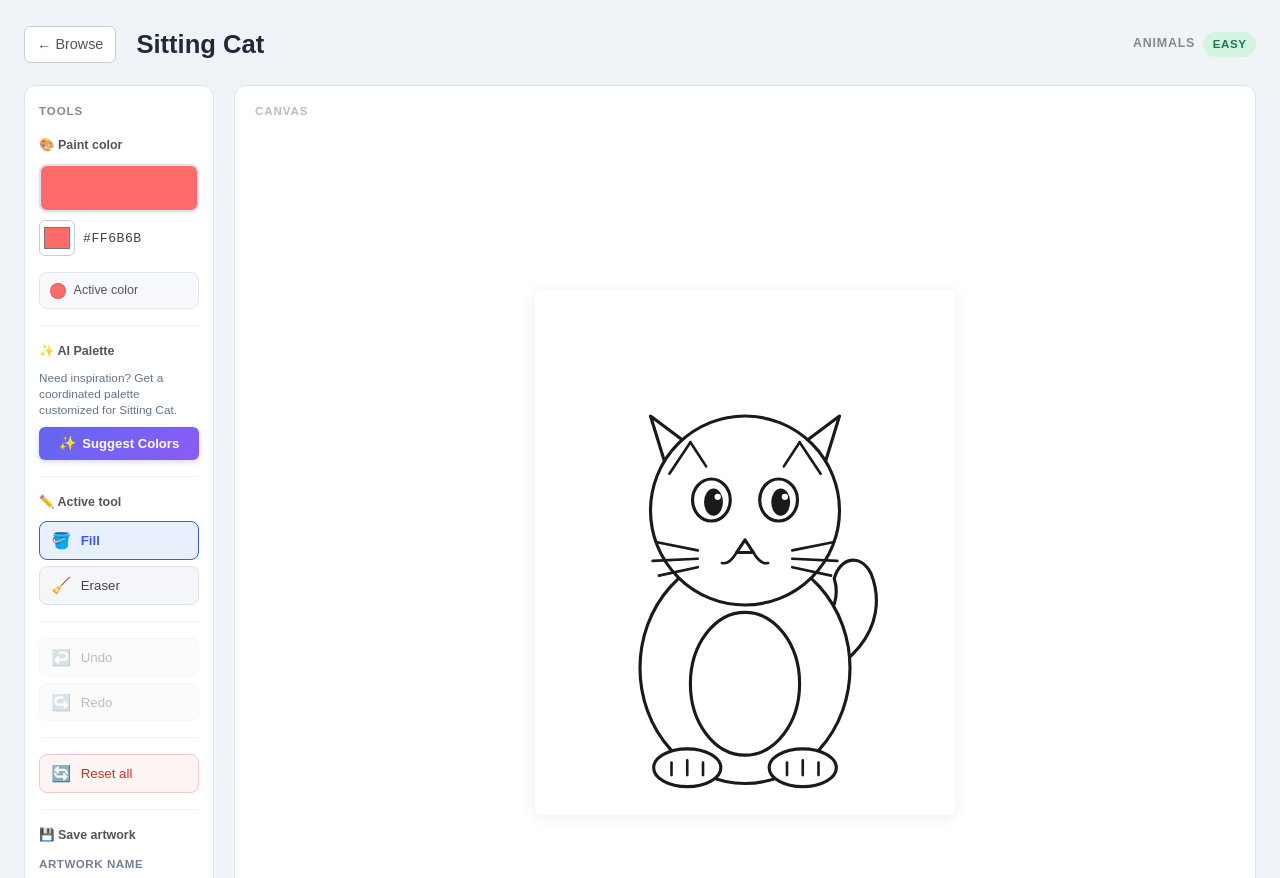
Test: Studio Coloring Tools & History Tests › updates selected paint color when color input changes
Step 1. Type "#2a9d8f" into the colour field named "color picker" → x=57, y=238, box [39, 220, 75, 256]
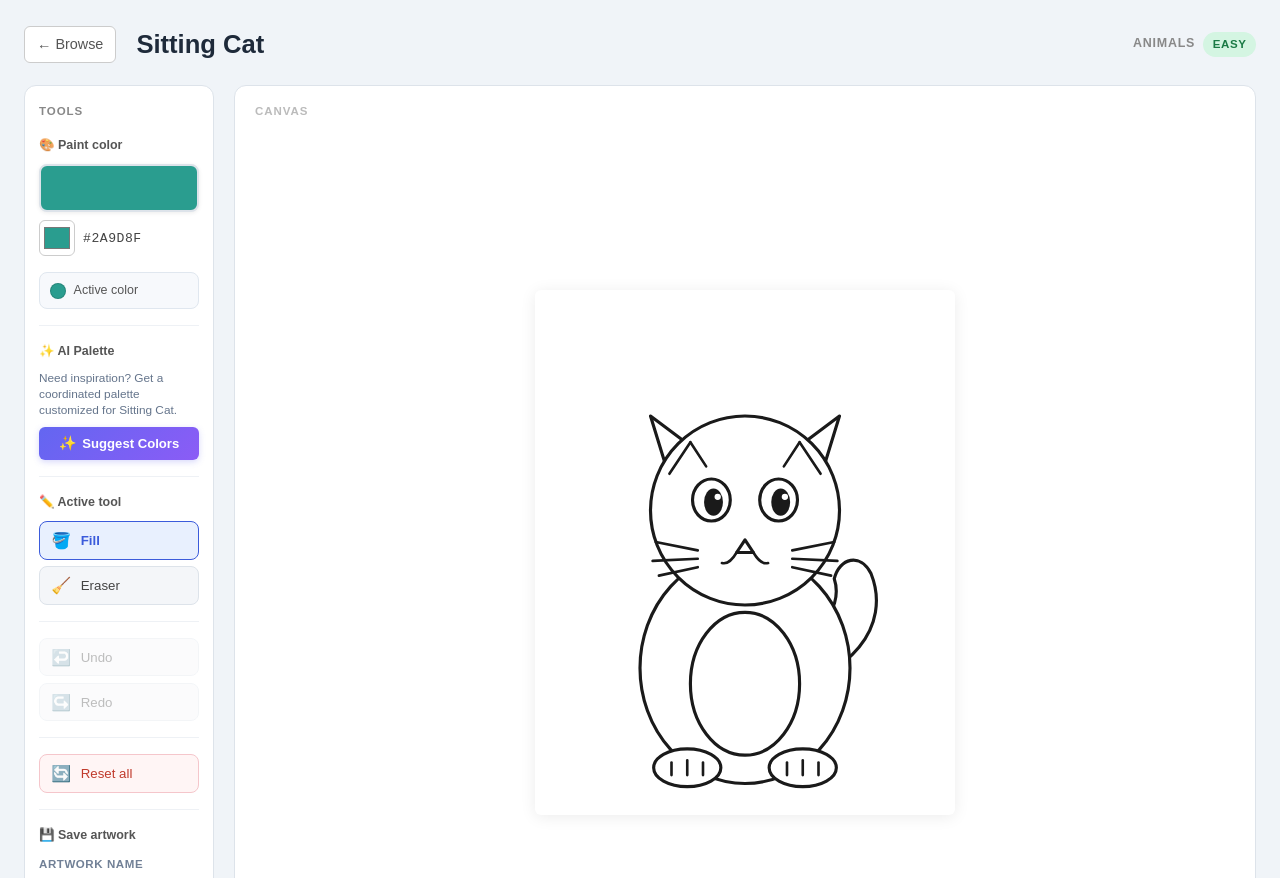
expect the text "#2A9D8F" is shown: met, box [83, 228, 142, 249]
